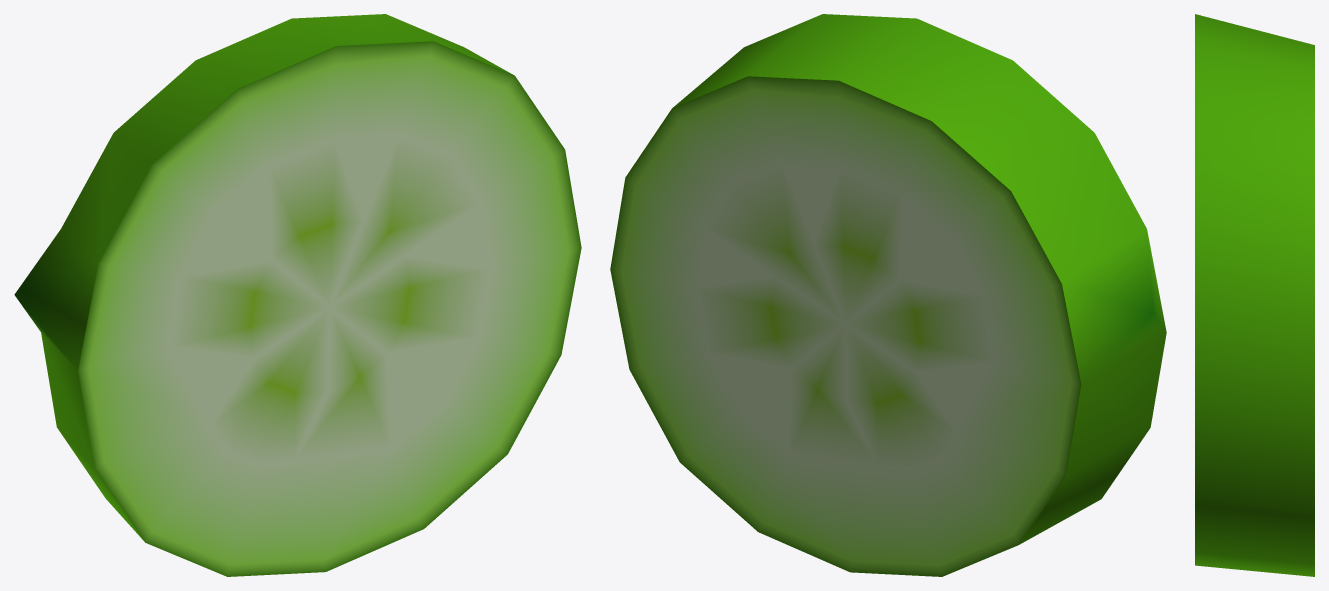
Rendered from Cucumber_Slice_19.fbx.
The picture shows the model from 3 angles, left to right: view 1: azimuth 30°, elevation 25°; view 2: azimuth 150°, elevation 25°; view 3: azimuth 270°, elevation 25°; orthographic projection. The views are drawn at different scales.
Visible parts, largest first — view 1: Cucumber_Slice_19; view 2: Cucumber_Slice_19; view 3: Cucumber_Slice_19.
Boxes of the visible parts, <box> form: Cucumber_Slice_19: <box>14,14,581,576</box>; Cucumber_Slice_19: <box>610,14,1166,576</box>; Cucumber_Slice_19: <box>1195,14,1314,576</box>.
Bounding box in the file's own units: 4.25 × 3.99 × 0.8571.
